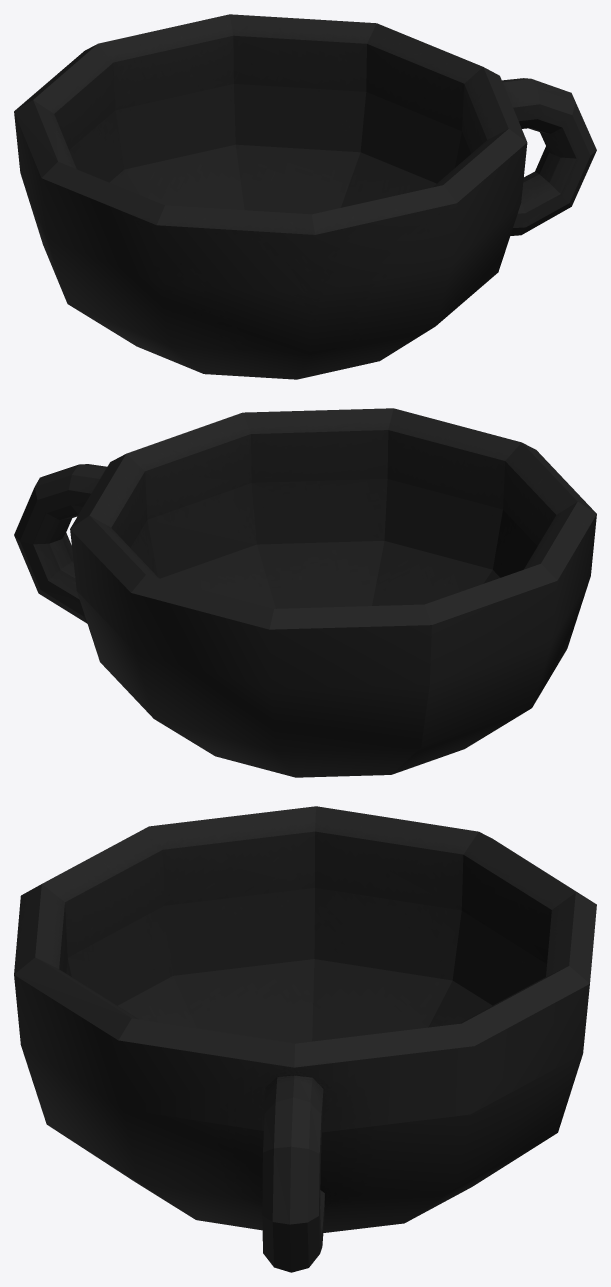
Rendered from frl_apartment_cup_05.glb.
The picture shows the model from 3 angles, top to bottom: view 1: azimuth 30°, elevation 25°; view 2: azimuth 150°, elevation 25°; view 3: azimuth 270°, elevation 25°; orthographic projection. The views are drawn at different scales.
Parts seen in each view (by area): view 1: frl_apartment_cup_05; view 2: frl_apartment_cup_05; view 3: frl_apartment_cup_05.
Boxes of the visible parts, x1=… form: frl_apartment_cup_05: x1=14, y1=14, x2=596, y2=379; frl_apartment_cup_05: x1=14, y1=408, x2=596, y2=777; frl_apartment_cup_05: x1=14, y1=806, x2=596, y2=1272.
Size of the model in its own units: 0.148 by 0.0592 by 0.1181.
1 material, 1 textured.
